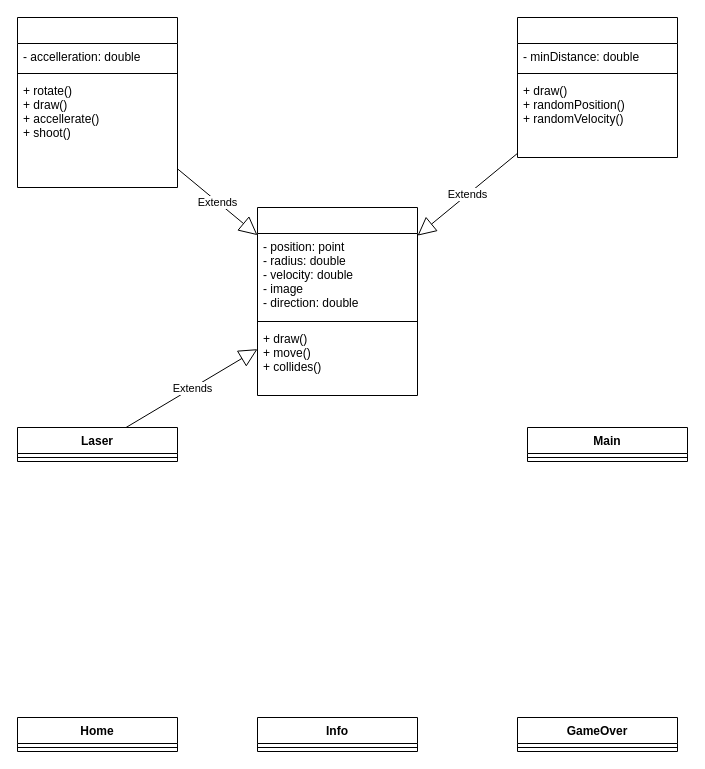
This 705x769 diagram has some shape labels left out. The box of each missing label's shape, as (x1, y1, x2, y2) in pixels:
Asteroid: (516, 16, 678, 158)
Game: (256, 206, 418, 396)
Spaceship: (16, 16, 178, 188)
